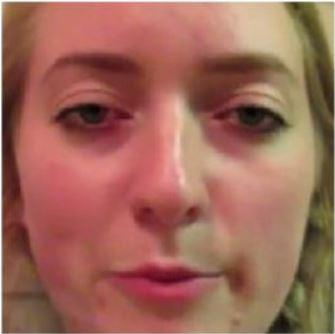Drunk: (30, 7, 307, 334)
